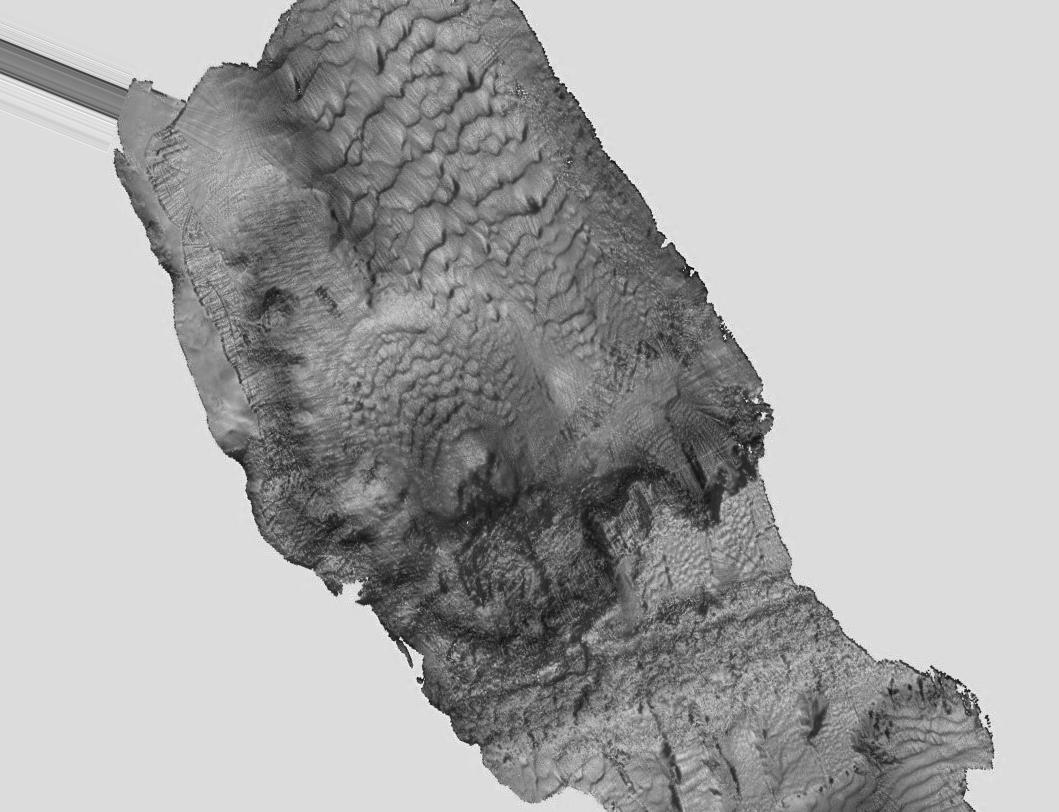Dune: (303, 6, 534, 306), (360, 327, 517, 426)
Scarp: (339, 563, 484, 747), (222, 432, 348, 634)
Scour pit: (401, 419, 568, 531)
Submerged dike: (426, 638, 858, 741)
